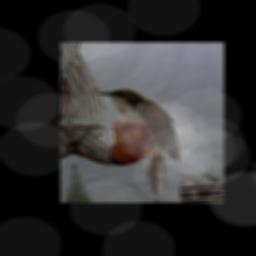Cuckoo: (96, 84, 184, 196)
